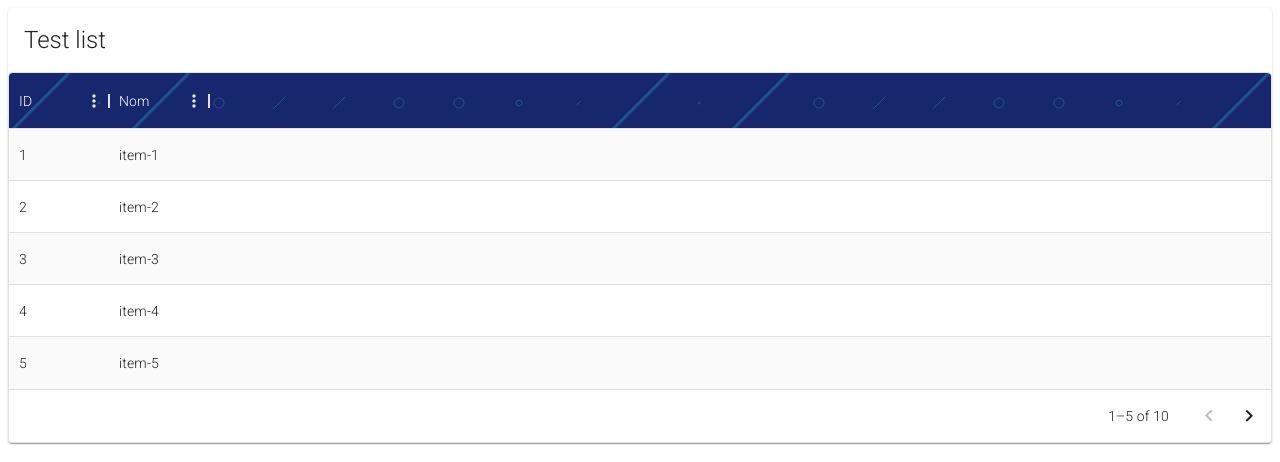
Test: DataTable: sort ascending / descending
Expected: the text "item-5" is shown, [119,352,159,372]
Expected: the text "item-1" is shown, [119,144,159,164]
Click the button named "Menu" next to "Nom" at (194, 100), box [179,86,209,116]
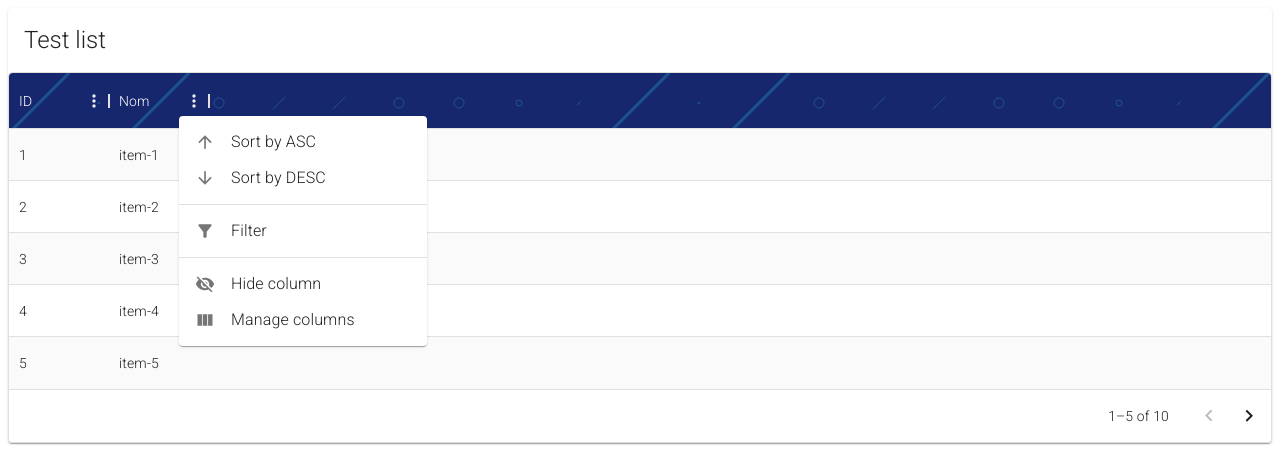
Click the menu item "Sort by DESC" at (260, 178), box [195,168,326,188]
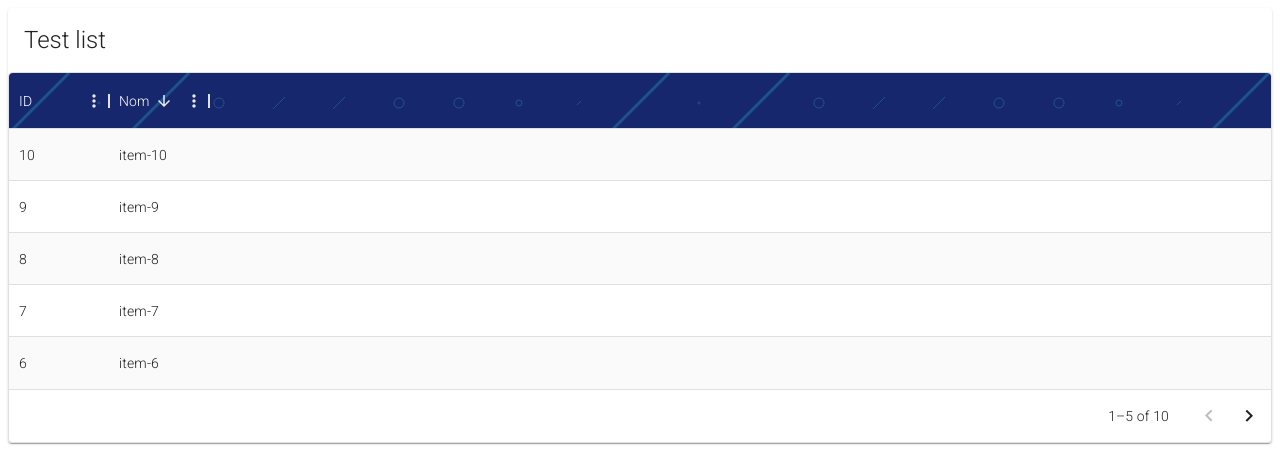
Result: the text "item-10" is shown at [119,144,167,164]
Result: the text "item-9" is shown at [119,196,159,216]
Result: the text "item-7" is shown at [119,300,159,320]
